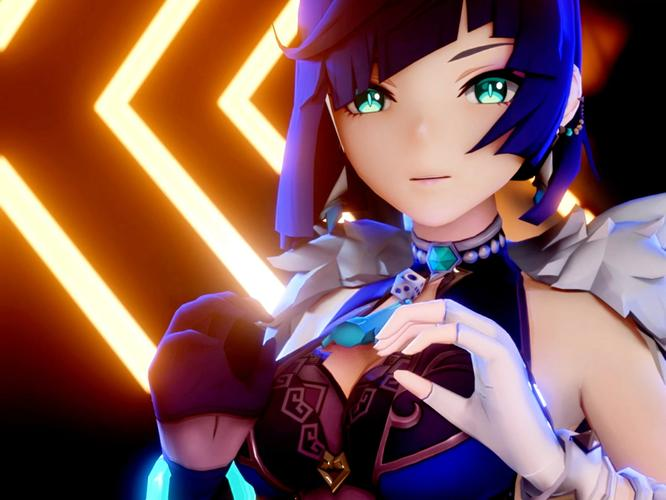夜兰: (148, 2, 665, 500)
